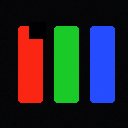1 square: (29, 22, 45, 38)
